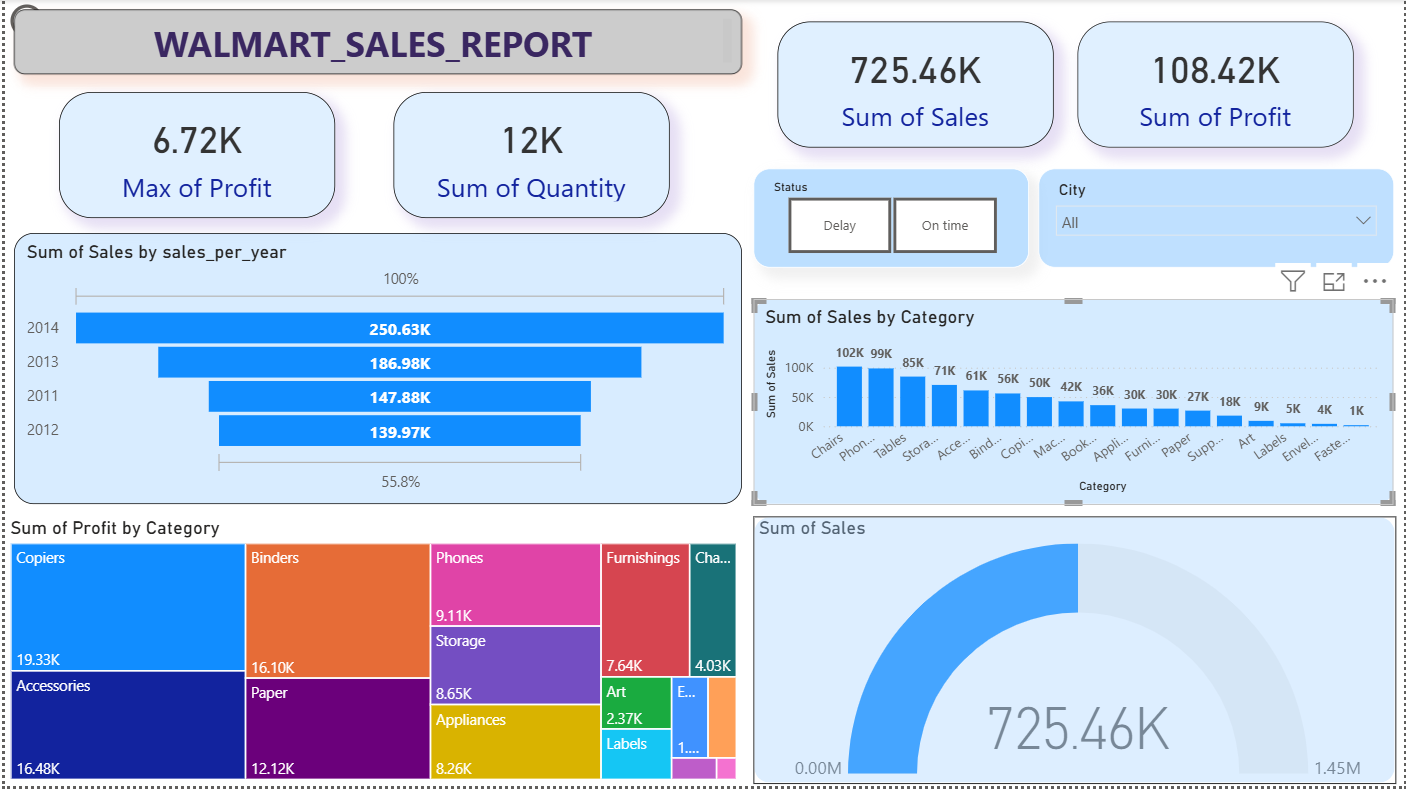

Layout of this report page (visuals, bound fields, positions):
{"tool":"powerbi","page":{"name":"Page 1","canvas":[1280,720],"ordinal":0},"visuals":[{"type":"card","fields":{"Values":["Sum(Walmart.Profit)"]},"box":[981.2,20.6,252.5,115.3],"z":0},{"type":"gauge","fields":{"Y":["Sum(Walmart.Sales)"]},"box":[684.7,473.9,593.3,244.8],"z":0,"group":"g1"},{"type":"card","fields":{"Values":["Sum(Walmart.Sales)"]},"box":[707.1,21.2,252.9,115.1],"z":1000},{"type":"shape","box":[684.4,474.3,588,244.9],"z":1000,"group":"g1"},{"type":"card","fields":{"Values":["Sum(Walmart.Quantity)"]},"box":[355.8,84.8,252.9,115.1],"z":2000},{"type":"group","id":"g1","title":"Group 1","box":[684.4,473.9,593.6,245.3],"z":3000},{"type":"card","fields":{"Values":["Max(Walmart.Profit)"]},"box":[50,84.8,252.9,115.1],"z":4000},{"type":"treemap","fields":{"Values":["Sum(Walmart.Profit)"],"Group":["Walmart.Category"]},"box":[0,473.9,673.8,245.3],"z":5000},{"type":"actionButton","box":[0,0,100,40],"z":6000},{"type":"funnel","fields":{"Category":["Walmart.sales_per_year"],"Y":["Sum(Walmart.Sales)"]},"box":[7.6,213.5,666.3,248.3],"z":7000},{"type":"slicer","fields":{"Values":["Walmart.Status"]},"box":[685.2,154.5,252.2,90.4],"z":8000},{"type":"lineClusteredColumnComboChart","fields":{"Category":["Walmart.Category"],"Y":["Sum(Walmart.Sales)"]},"box":[684.4,274.1,586,187.8],"z":9000},{"type":"slicer","fields":{"Values":["Walmart.City"]},"box":[946.2,154.5,325.1,90.4],"z":10000},{"type":"textbox","box":[7.6,9.1,666.3,59.1],"z":10001}]}

Visuals, with their boxes in screenshot pixels (x1, y1, x2, y2), scaled from the page's 1280x720 canvas onto the 1406x789 screenshot:
card - Sum(Walmart.Profit): 1078:23:1355:149
gauge - Sum(Walmart.Sales): 752:519:1404:788
card - Sum(Walmart.Sales): 777:23:1054:149
shape: 752:520:1398:788
card - Sum(Walmart.Quantity): 391:93:669:219
"Group 1" group: 752:519:1404:788
card - Max(Walmart.Profit): 55:93:333:219
treemap - Sum(Walmart.Profit) x Walmart.Category: 0:519:740:788
actionButton: 0:0:110:44
funnel - Walmart.sales_per_year x Sum(Walmart.Sales): 8:234:740:506
slicer - Walmart.Status: 753:169:1030:268
lineClusteredColumnComboChart - Walmart.Category x Sum(Walmart.Sales): 752:300:1395:506
slicer - Walmart.City: 1039:169:1396:268
textbox: 8:10:740:75
